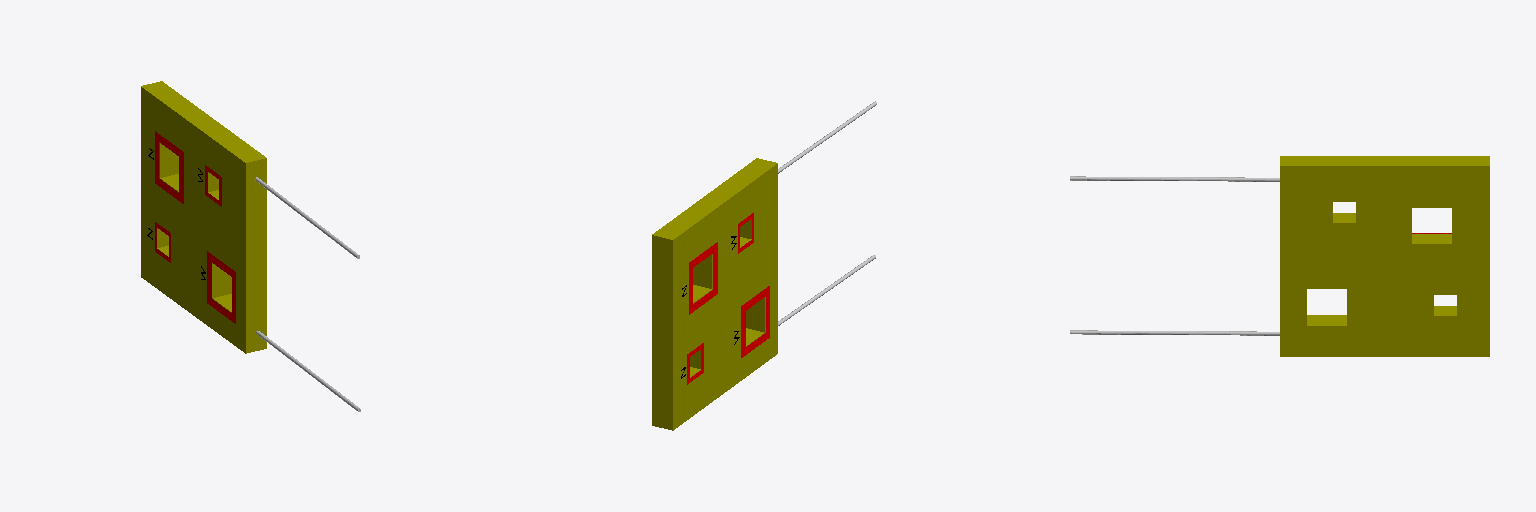
File: torpedo.obj
3 renders of one model, left to right at view 1: azimuth 30°, elevation 25°; view 2: azimuth 150°, elevation 25°; view 3: azimuth 270°, elevation 25°, orthographic.
Parts seen in each view (by area): view 1: Cube.001, Cube.004, Cube.002, Cylinder_Cylinder.001, Cylinder.001_Cylinder.002; view 2: Cube.001, Cube.004, Cube.002; view 3: Cube.001, Cylinder_Cylinder.001, Cylinder.001_Cylinder.002.
Part boxes in pixels (left/top/right/bottom): Cube.001: left=141, top=81, right=266, bottom=353; Cube.004: left=207, top=251, right=235, bottom=323; Cube.002: left=155, top=131, right=183, bottom=203; Cylinder_Cylinder.001: left=256, top=331, right=360, bottom=411; Cylinder.001_Cylinder.002: left=255, top=177, right=359, bottom=258; Cube.001: left=652, top=158, right=777, bottom=430; Cube.004: left=741, top=286, right=769, bottom=357; Cube.002: left=689, top=242, right=717, bottom=314; Cube.001: left=1280, top=156, right=1489, bottom=356; Cylinder_Cylinder.001: left=1070, top=330, right=1279, bottom=335; Cylinder.001_Cylinder.002: left=1070, top=176, right=1279, bottom=181.
Size of the model in its own units: 0.3881 by 3.2 by 6.4.